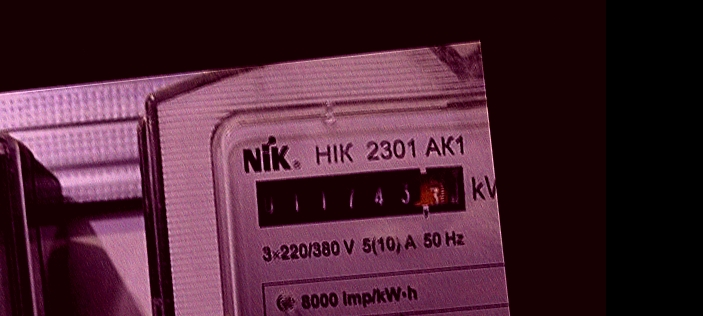0: (261, 188, 278, 217)
1: (288, 185, 305, 215), (316, 184, 332, 213)
3: (397, 179, 413, 207), (427, 185, 444, 208)
4: (371, 182, 388, 209)
7: (343, 183, 359, 210)
screen: (246, 153, 478, 241)
